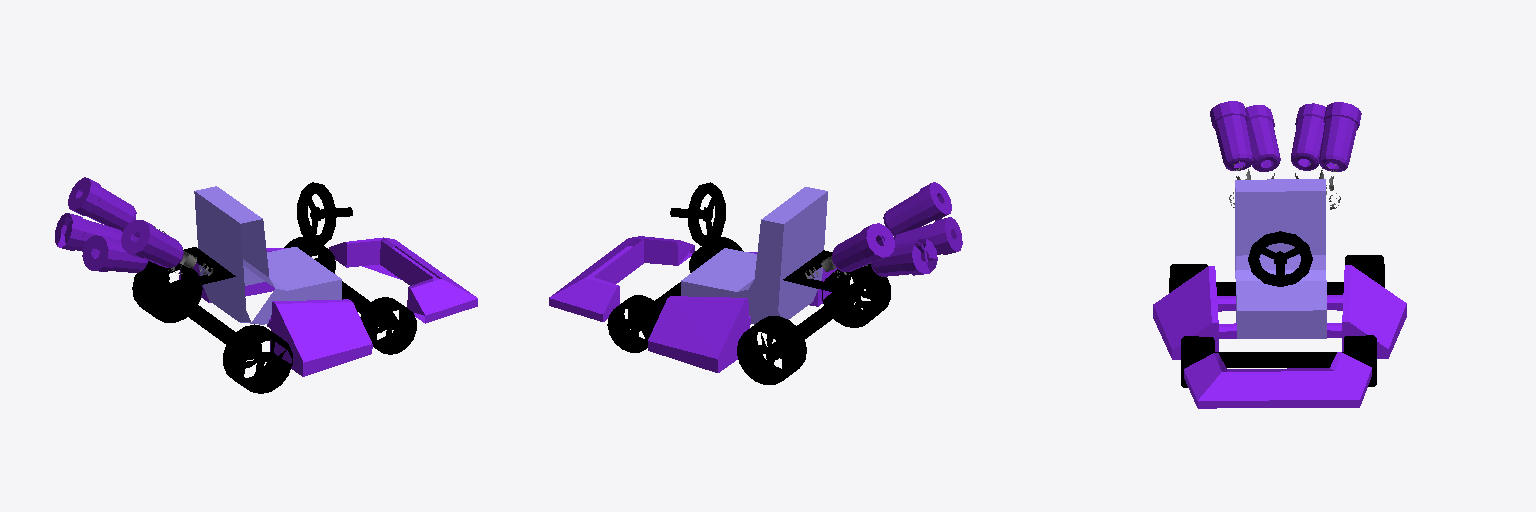
File: ModeloKart_2.obj
3 views of the same model, side by side, from view 1: azimuth 30°, elevation 25°; view 2: azimuth 150°, elevation 25°; view 3: azimuth 270°, elevation 25° (orthographic).
Size of the model in its own units: 3.54 by 1.64 by 2.15.